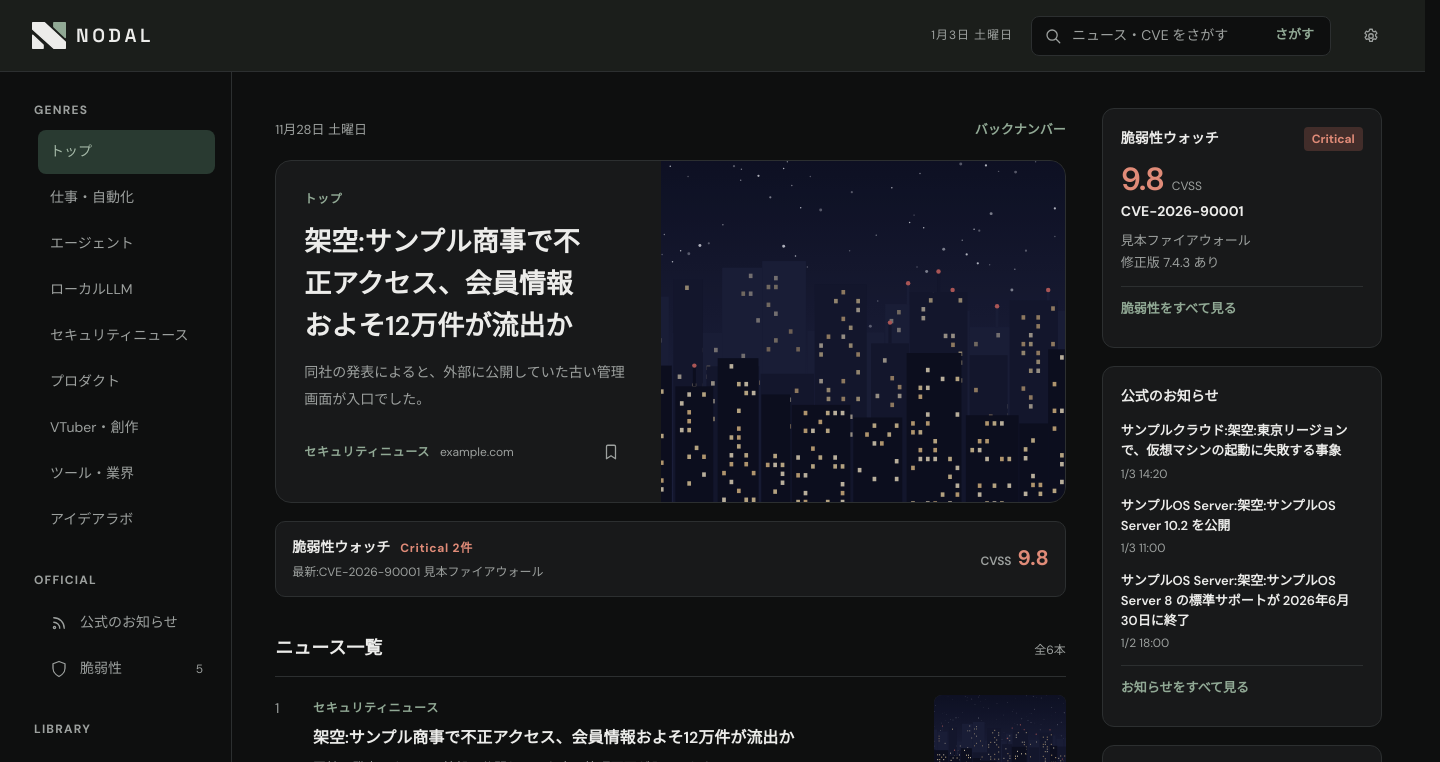
Test case: さがす:入力中の候補 › Esc で候補を閉じ、欄の中身は残す。候補を選ばずに Enter なら結果の画面へ
Type "エージェント" into the dropdown named "検索語" at (1166, 36), box x1=1070 y1=23 x2=1263 y2=48
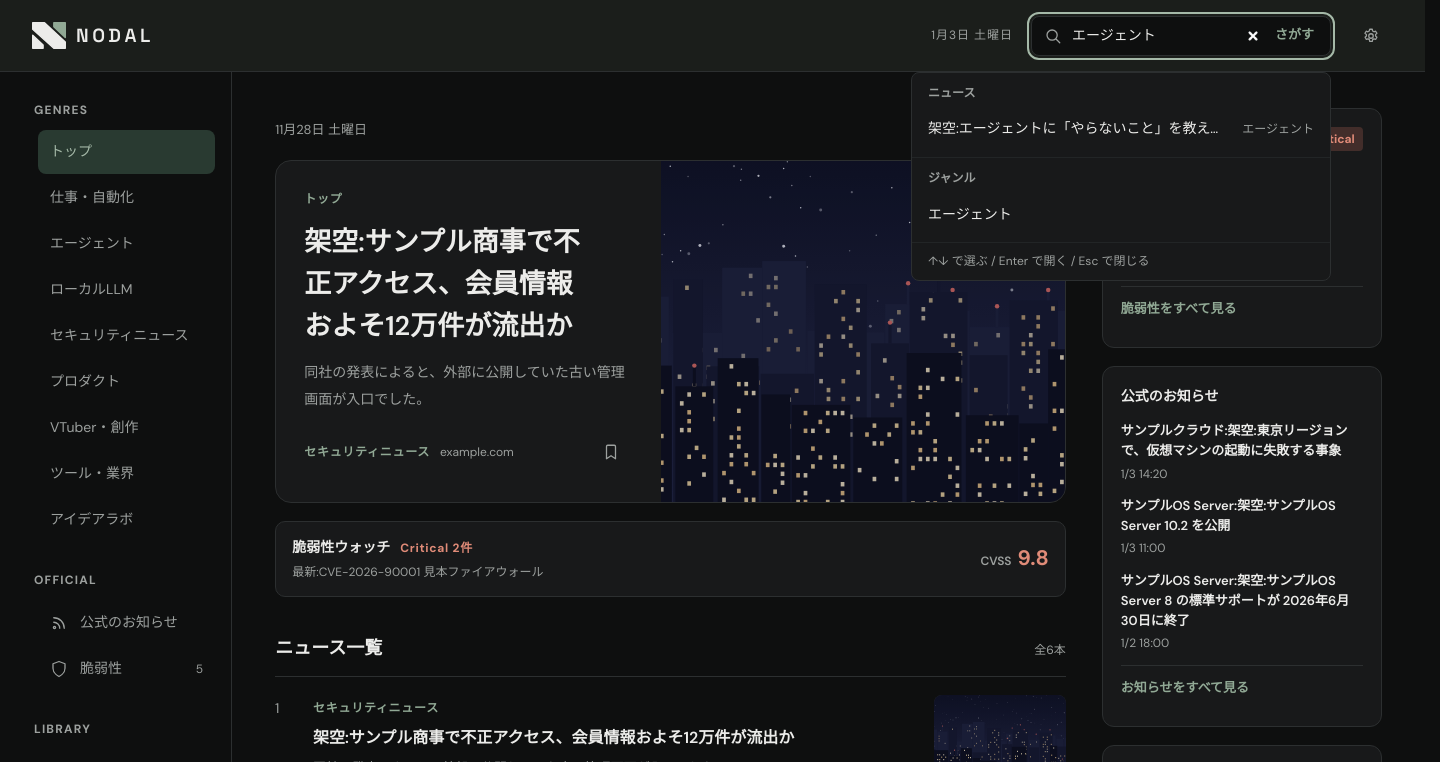
Press Arrowdown Escape
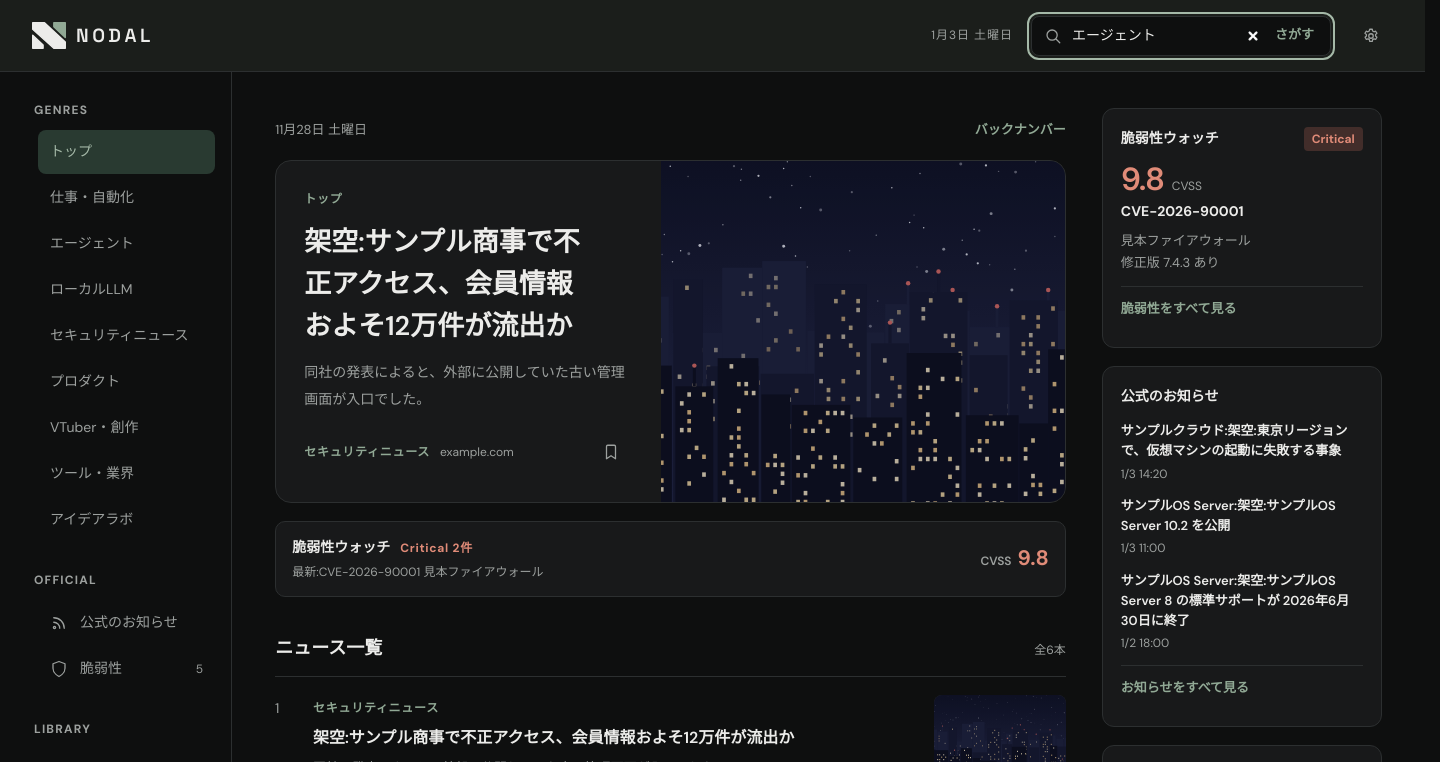
Now the list "ニュース 架空:エージェントに「やらないこと」を教える書き方 エージェント ジャンル エージェント" is gone
Press Enter
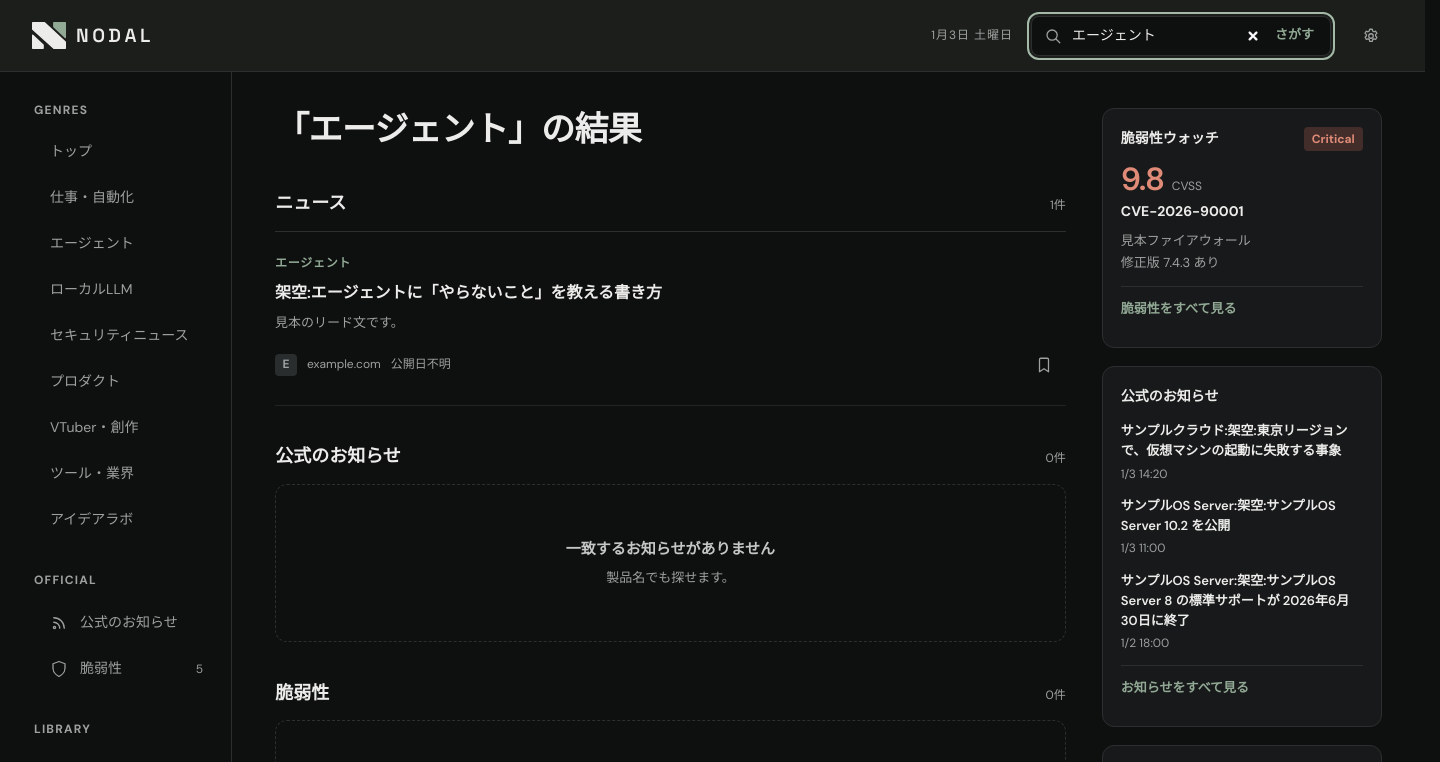
Now the heading "「エージェント」の結果" is shown, box x1=275 y1=107 x2=641 y2=152
